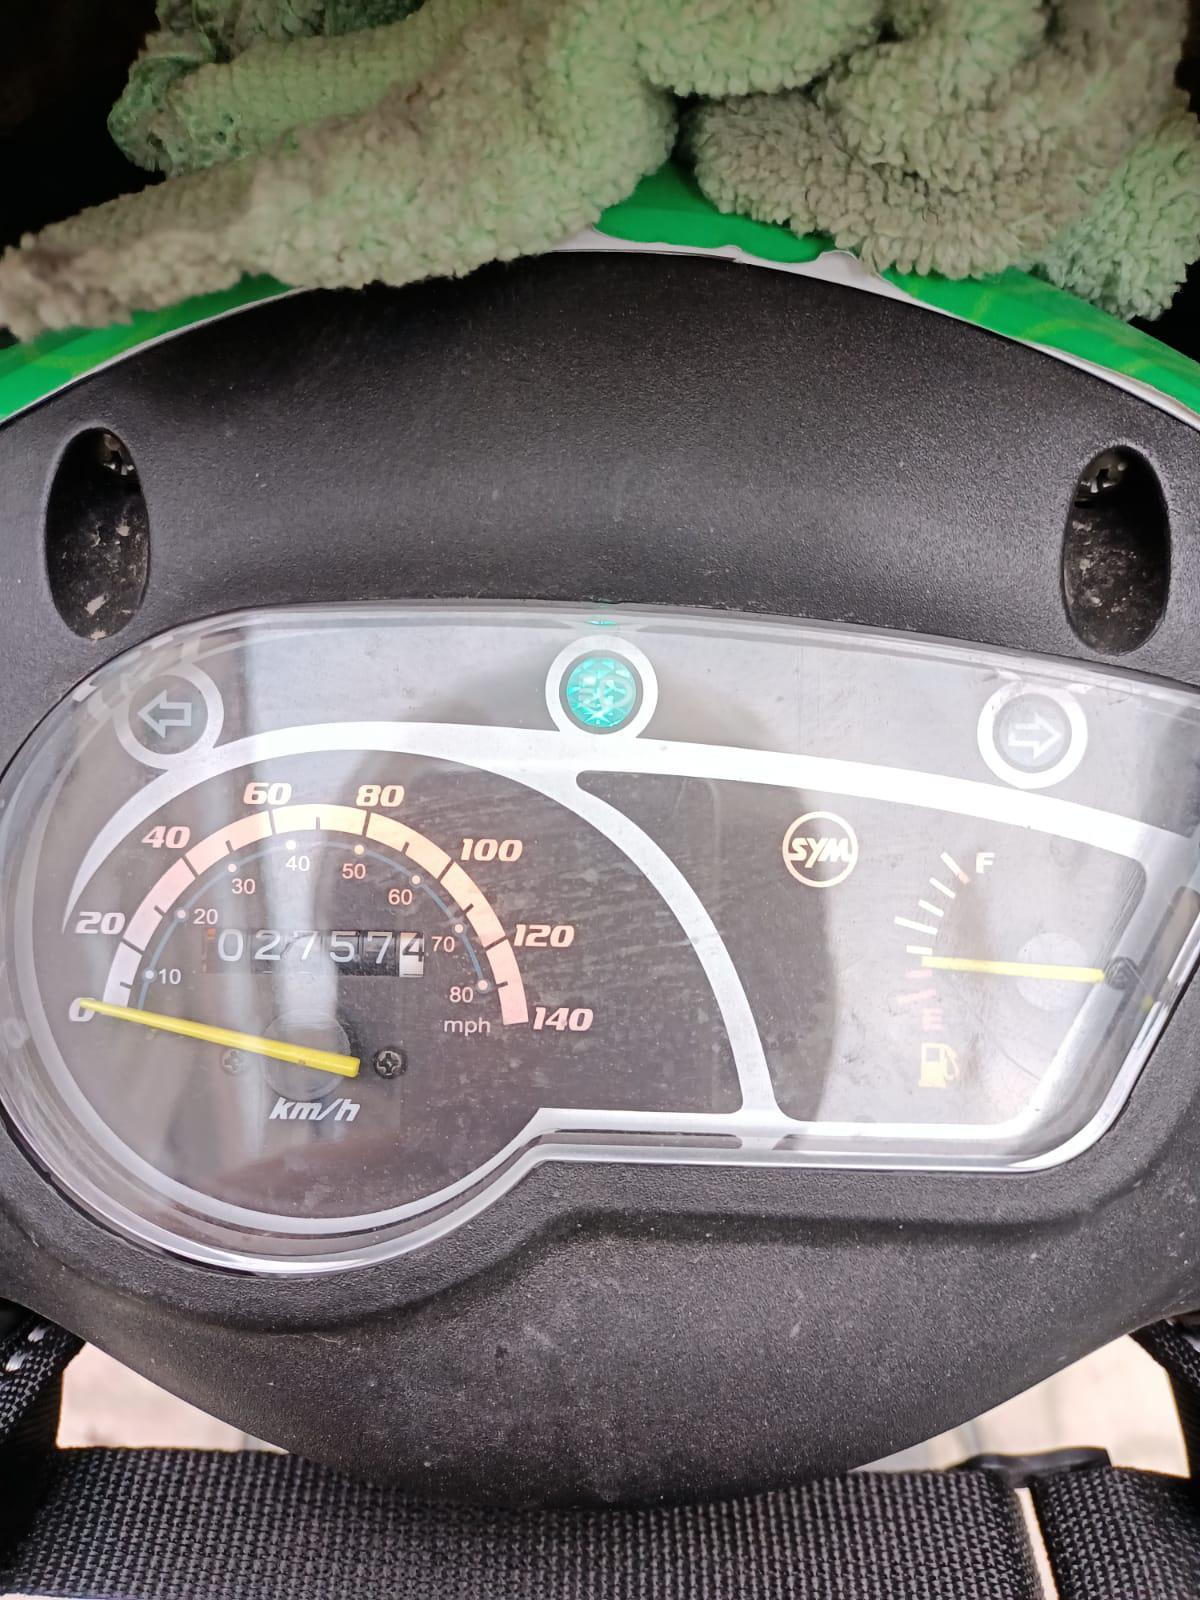0: (216, 927, 246, 964)
2: (253, 927, 284, 963)
4: (400, 931, 425, 965)
5: (328, 929, 357, 963)
7: (364, 929, 395, 965), (290, 929, 318, 961)
odometer: (200, 923, 429, 981)
